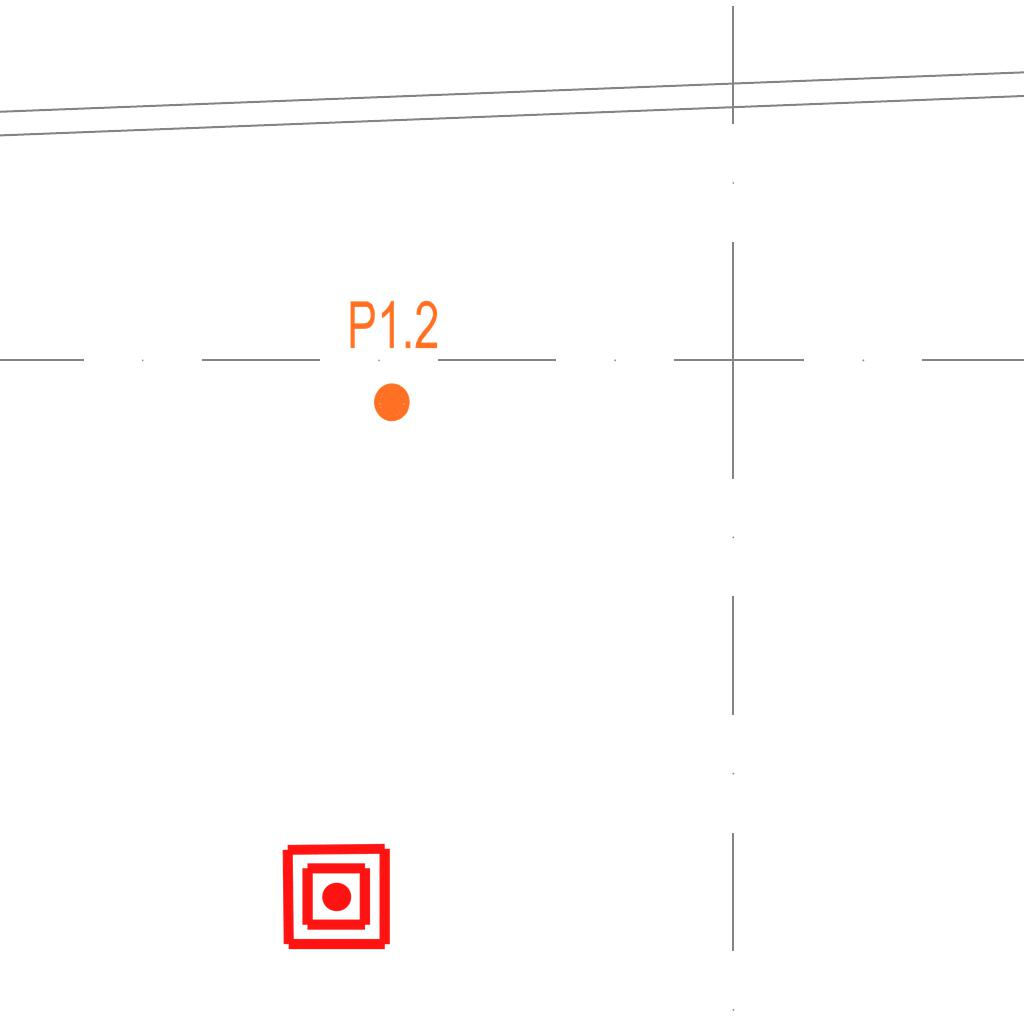Downlight_LED_Einbauleuchten_Flur: (347, 297, 440, 425)
NAM-Nichtautomatischer_Melder: (280, 840, 393, 953)
